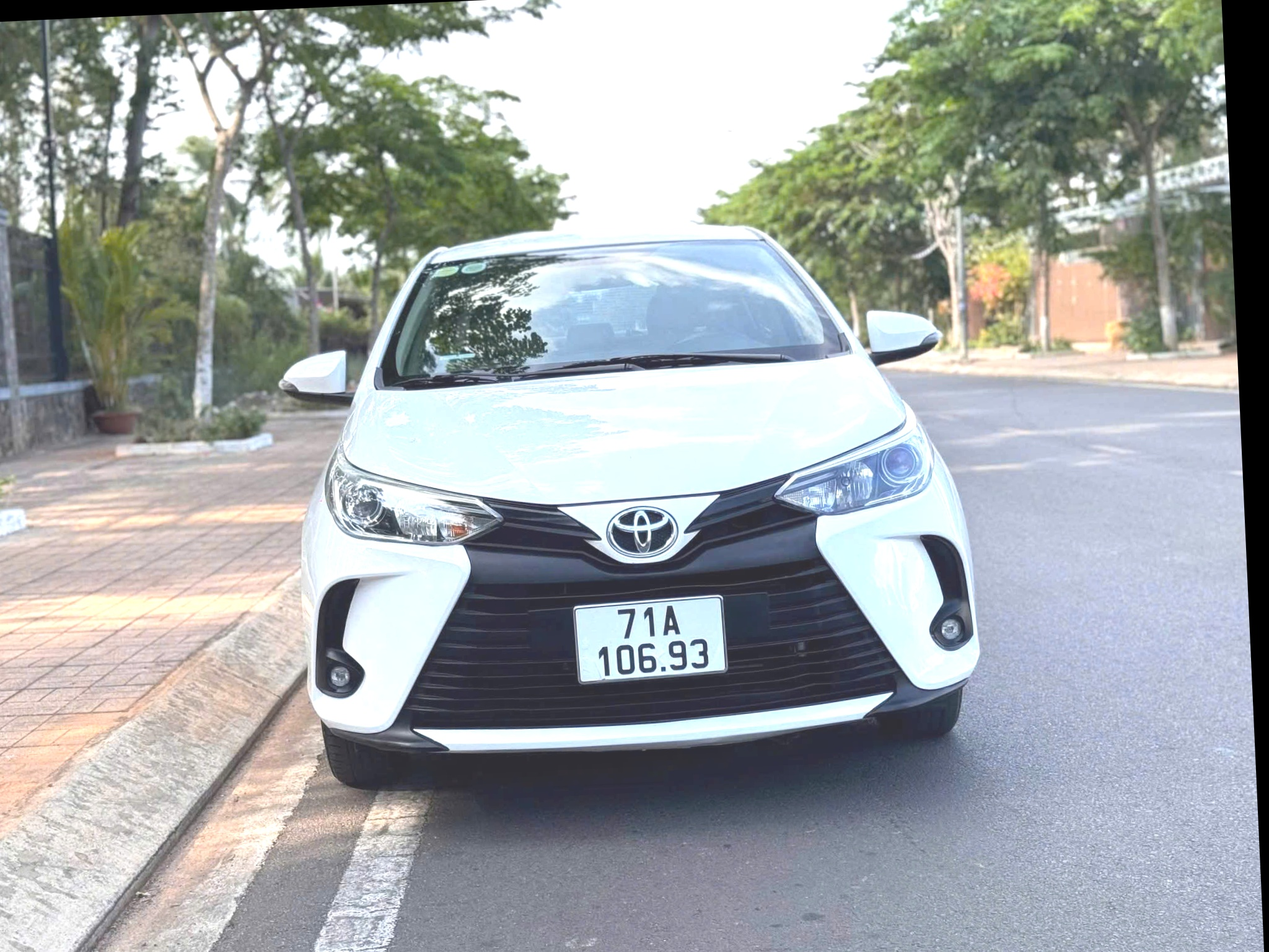Bien-so: (578, 598, 726, 682)
